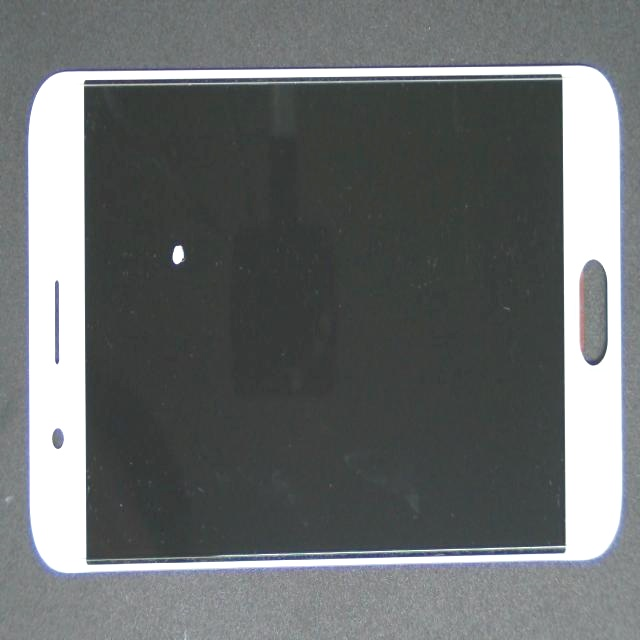stain: (114, 114, 268, 353)
